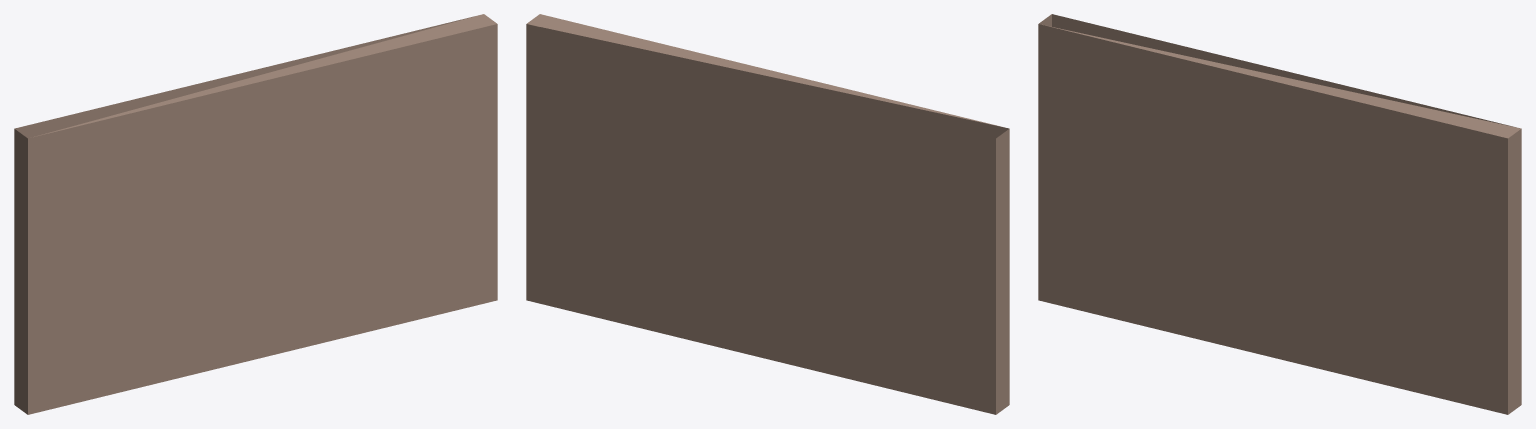
File: joe_plaque.glb
3 views of the same model, side by side, from view 1: azimuth 30°, elevation 25°; view 2: azimuth 150°, elevation 25°; view 3: azimuth 330°, elevation 25° (orthographic).
Visible parts, largest first — view 1: joe_plaque; view 2: joe_plaque; view 3: joe_plaque.
Boxes of the visible parts, left/top/right/bottom form: joe_plaque: left=14, top=14, right=497, bottom=414; joe_plaque: left=526, top=14, right=1009, bottom=414; joe_plaque: left=1038, top=14, right=1521, bottom=414.
Bounding box in the file's own units: 3.2 × 1.8 × 0.16.
